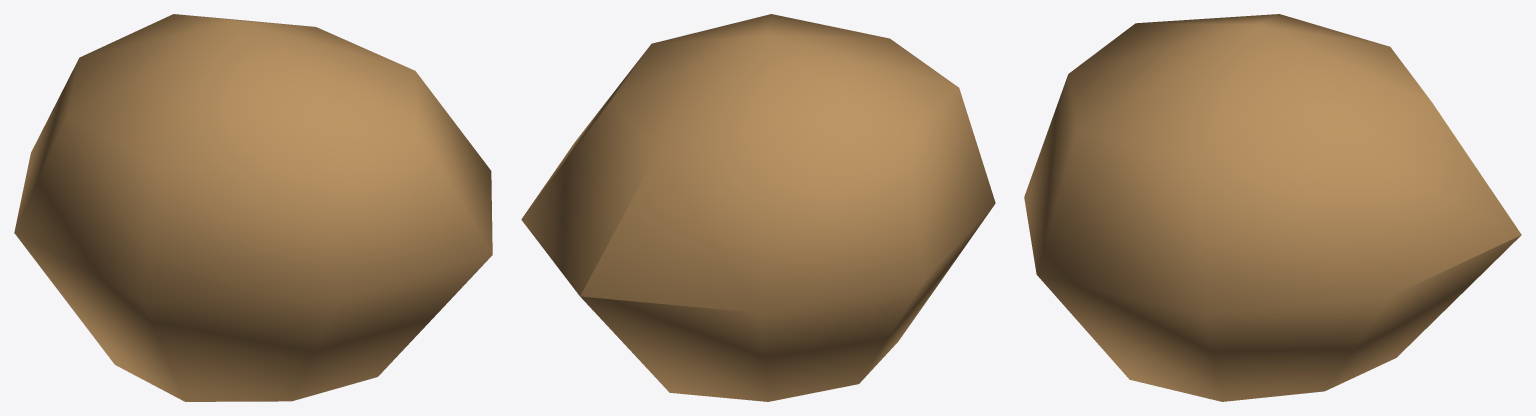
File: food_potato_a.obj
3 renders of one model, left to right at view 1: azimuth 30°, elevation 25°; view 2: azimuth 150°, elevation 25°; view 3: azimuth 270°, elevation 25°, orthographic. The views are drawn at different scales.
Visible parts, largest first — view 1: food_potato_a; view 2: food_potato_a; view 3: food_potato_a.
Boxes of the visible parts, box(x1,y1,x2,y2) form: food_potato_a: box(14, 14, 492, 401); food_potato_a: box(521, 14, 995, 401); food_potato_a: box(1024, 14, 1521, 401).
Size of the model in its own units: 0.1214 by 0.09 by 0.1275.
